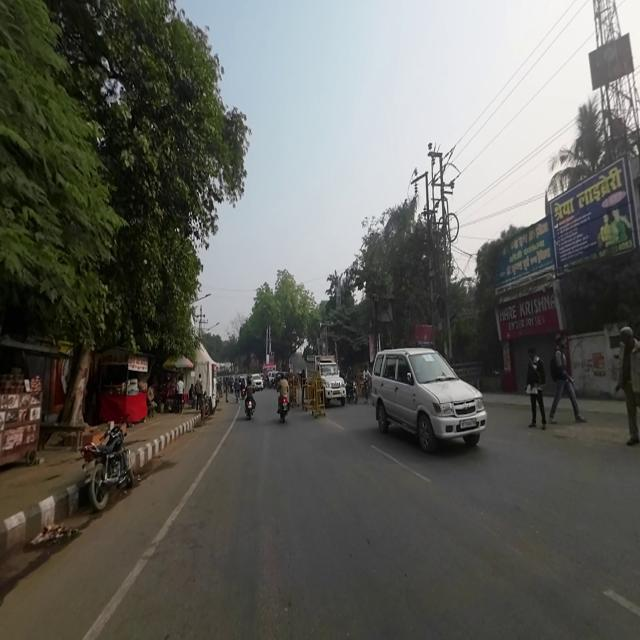Garbage: (28, 523, 68, 550)
